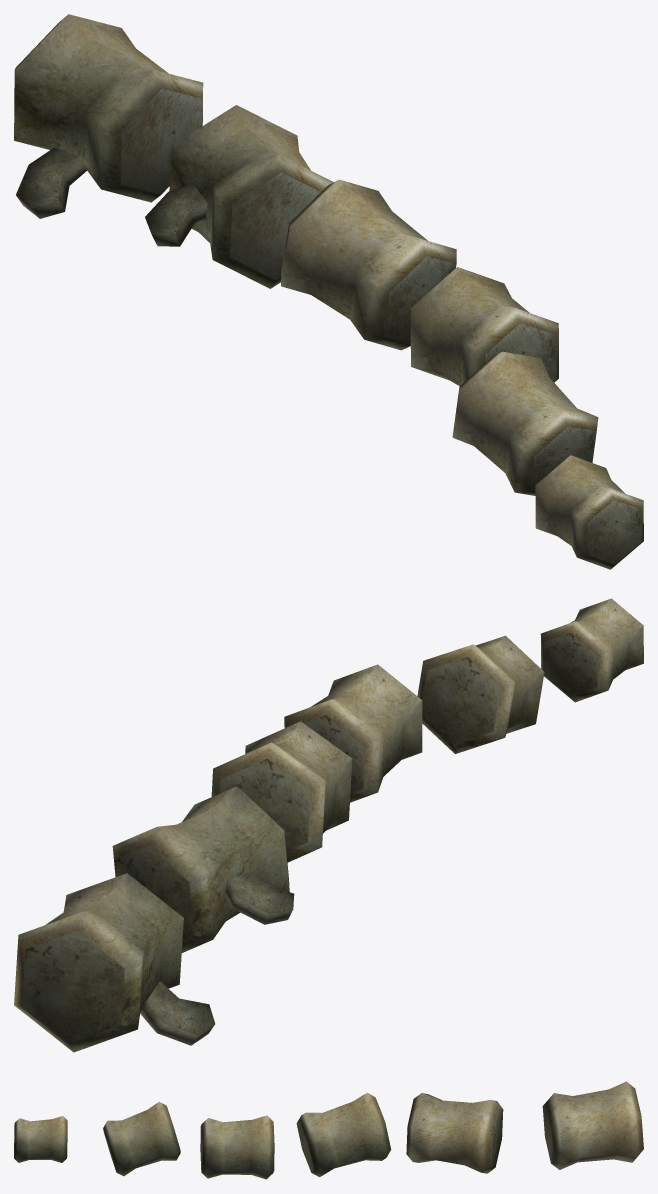
Rendered from bone_whale_tail02.fbx.
The picture shows the model from 3 angles, top to bottom: view 1: azimuth 30°, elevation 25°; view 2: azimuth 150°, elevation 25°; view 3: azimuth 270°, elevation 25°; orthographic projection. The views are drawn at different scales.
Visible parts, largest first — view 1: bone_whale_tail02; view 2: bone_whale_tail02; view 3: bone_whale_tail02.
Boxes of the visible parts, x1,y1,x2,y2 form: bone_whale_tail02: [14, 14, 643, 569]; bone_whale_tail02: [14, 598, 643, 1052]; bone_whale_tail02: [14, 1081, 643, 1179].
Bounding box in the file's own units: 3 × 2.27 × 14.76.
